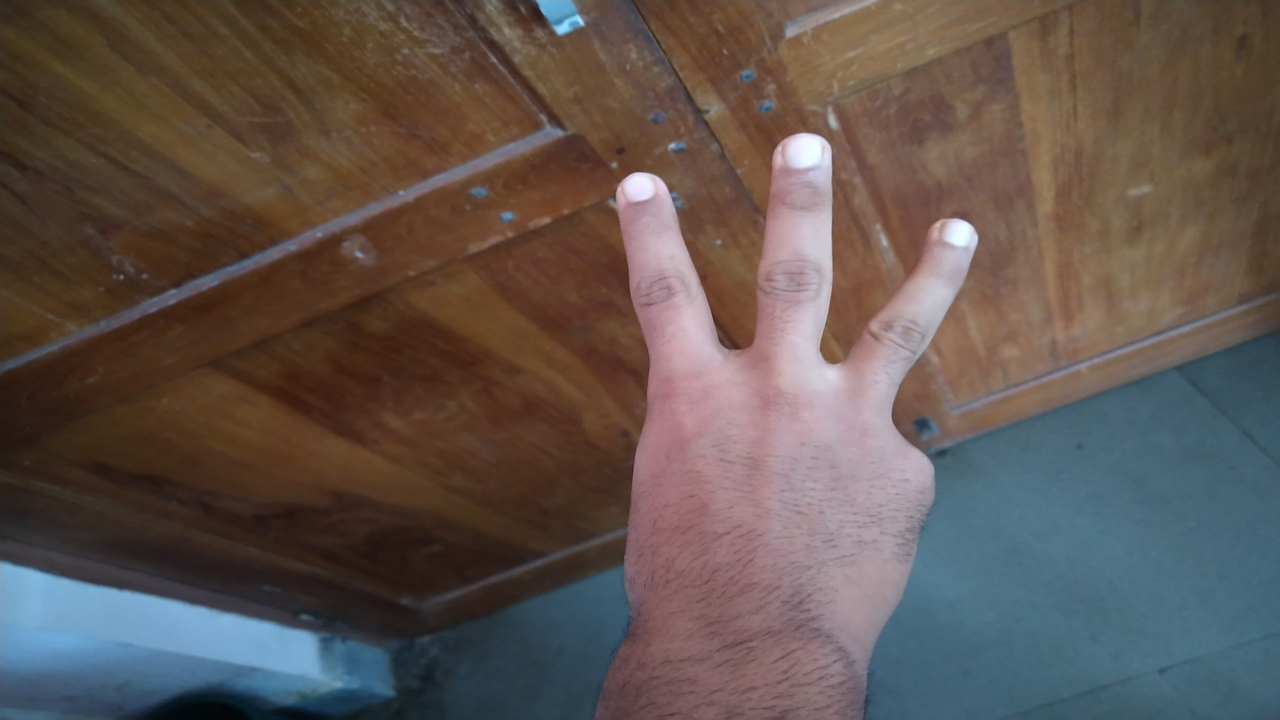fingertip: (606, 164, 674, 232), (770, 126, 834, 192), (922, 208, 988, 266)
